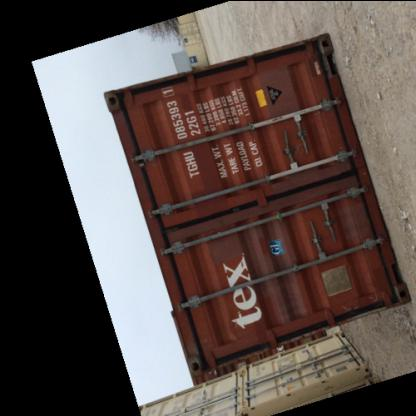Damage: (338, 207, 372, 244)
